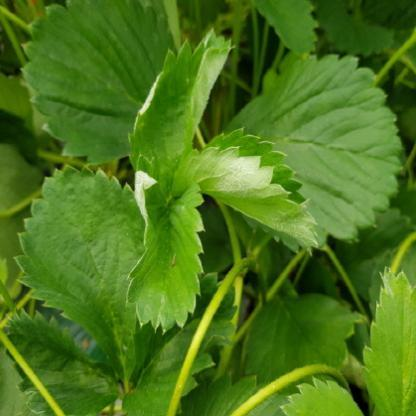Strawberry_Powdery_Mildew_Leaf: (191, 128, 322, 257), (127, 26, 235, 174), (124, 148, 206, 332)
